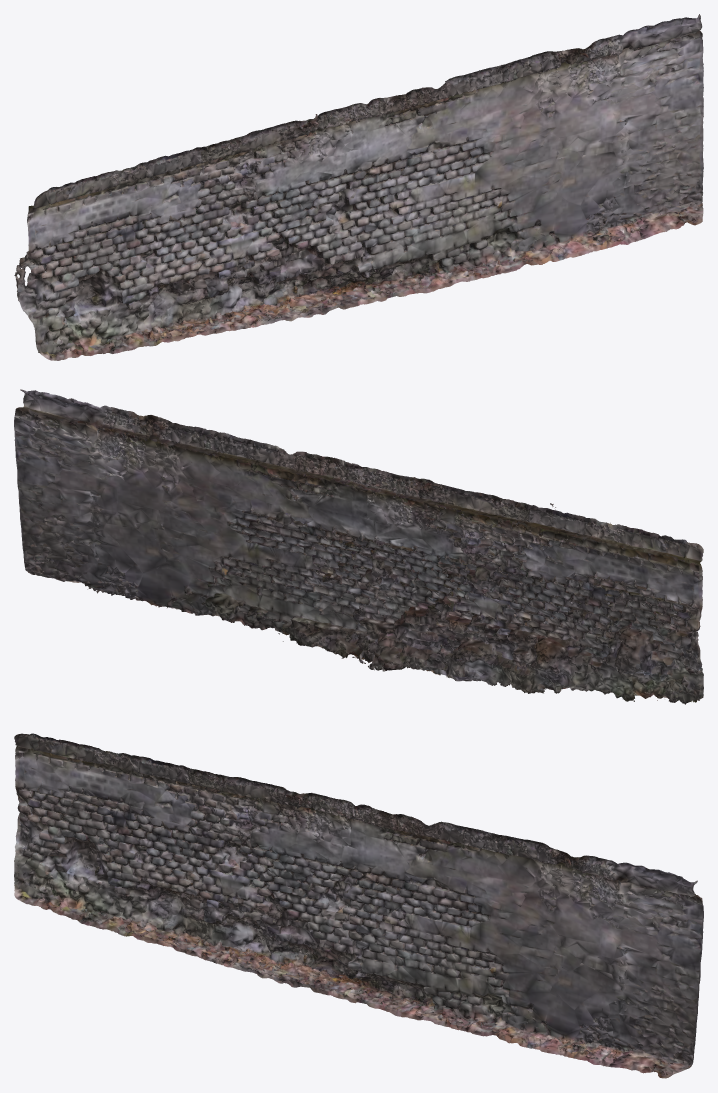
The model's file is wall2.glb.
3 views of the same model, one above another, from view 1: azimuth 30°, elevation 25°; view 2: azimuth 150°, elevation 25°; view 3: azimuth 330°, elevation 25° (orthographic).
Visible parts, largest first — view 1: Object_2; view 2: Object_2; view 3: Object_2.
Boxes of the visible parts, <box> form: Object_2: <box>14,14,703,360</box>; Object_2: <box>14,389,703,704</box>; Object_2: <box>14,733,703,1078</box>.
Size of the model in its own units: 10.22 by 2.81 by 0.9322.
1 material, 1 textured.
